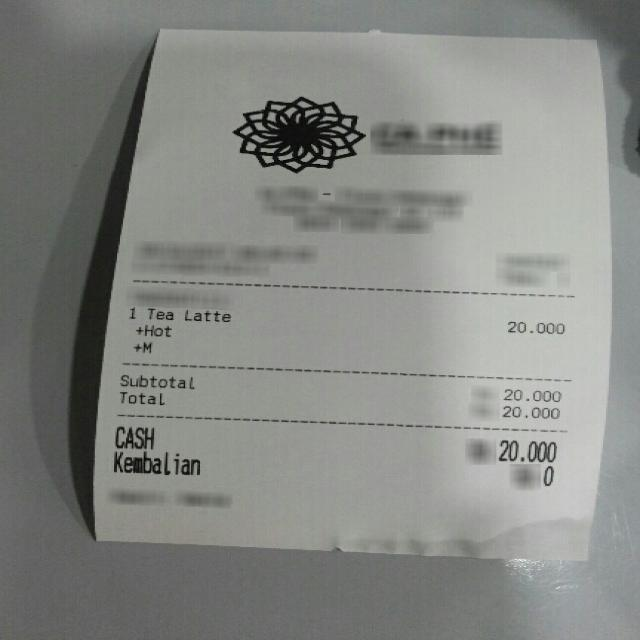kertas: (91, 19, 625, 563)
